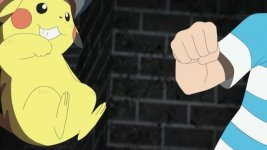pikachu: (1, 2, 108, 146)
